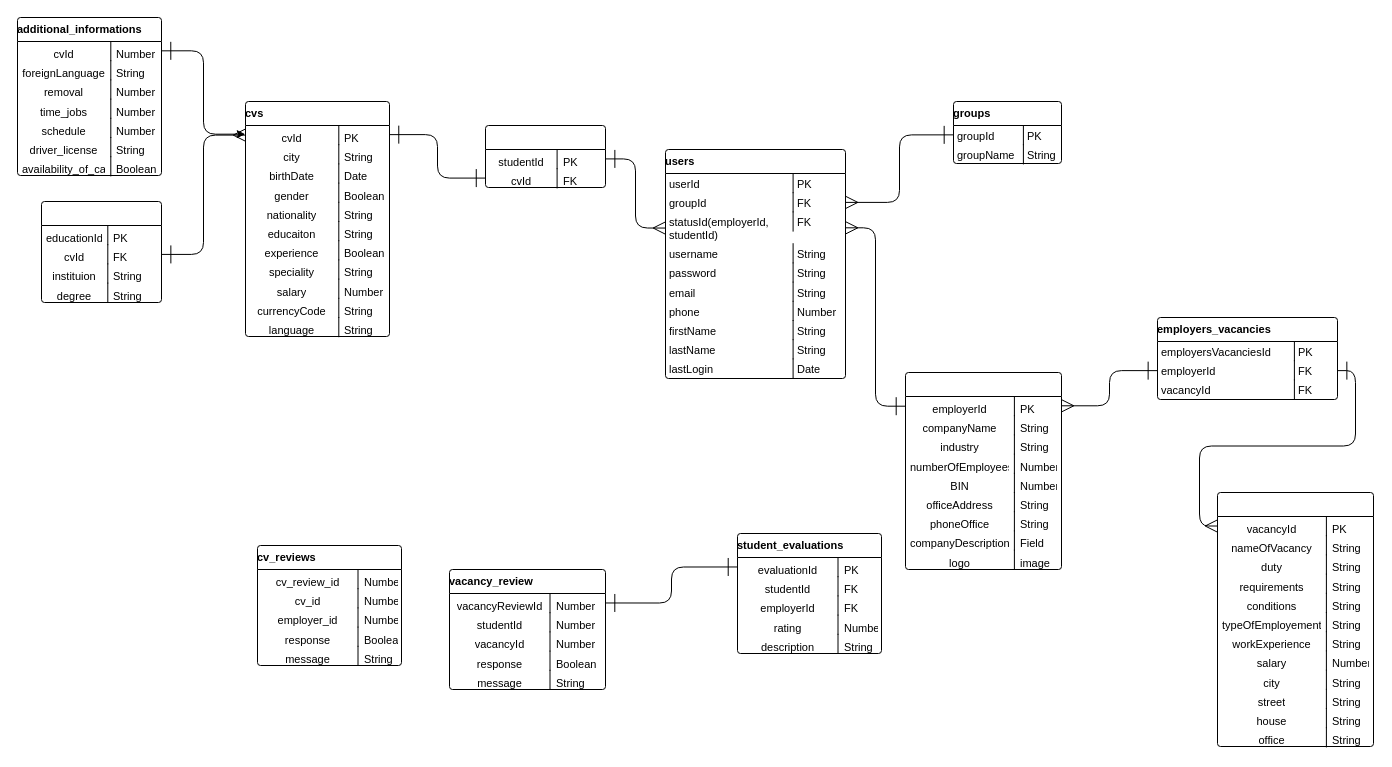
This 1392x767 diagram has some shape labels left out. The box of each missing label's shape, as (x1, y1, x2, y2) in pixels:
educations: (40, 200, 162, 302)
employers: (904, 372, 1062, 570)
students: (484, 124, 606, 188)
vacancies: (1216, 492, 1374, 746)
